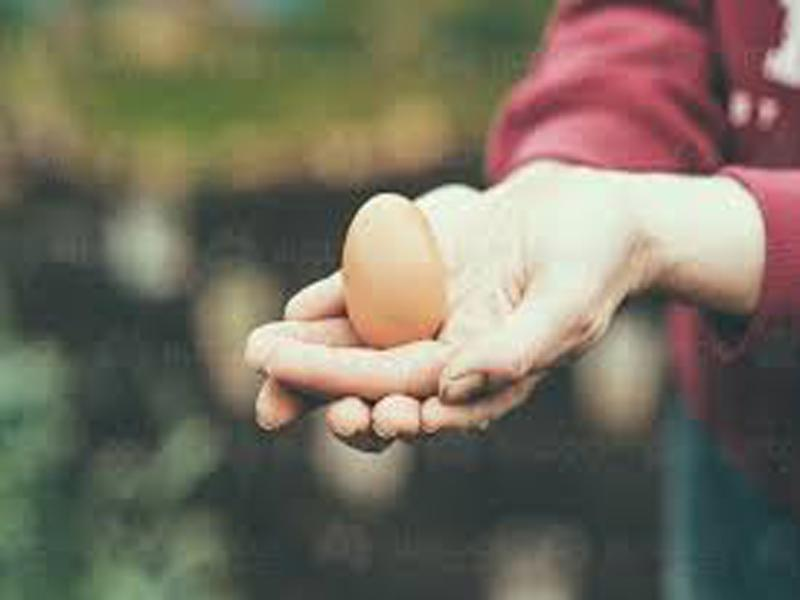Eggs: (343, 193, 445, 344)
